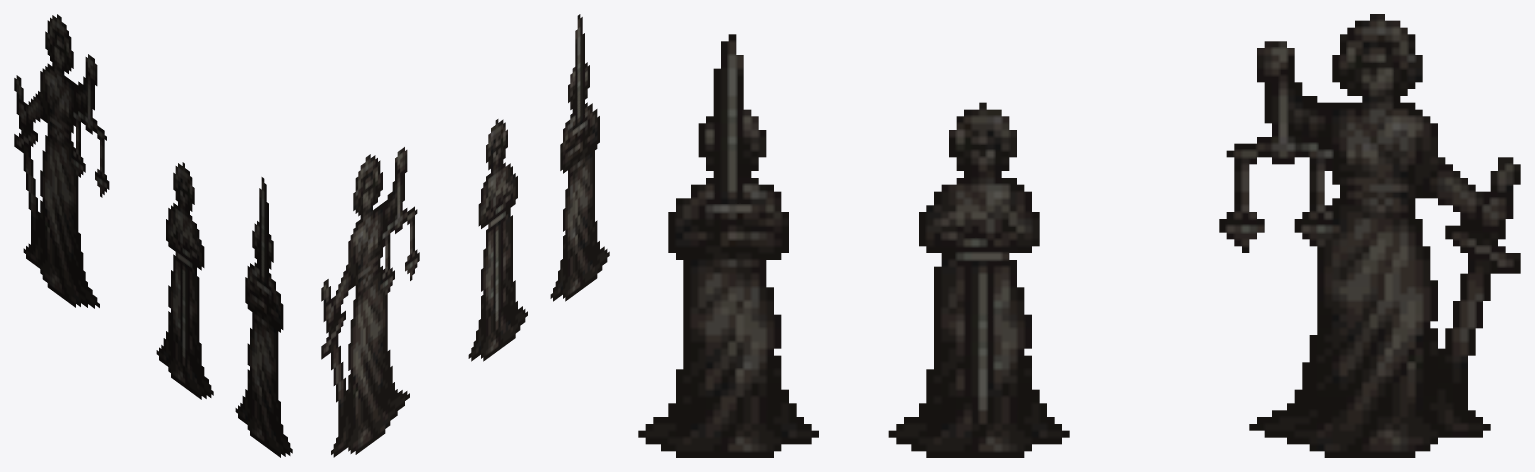
Rendered from EnvObjMD_Statue_I_R.FBX.
3 views of the same model, side by side, from view 1: azimuth 30°, elevation 25°; view 2: azimuth 150°, elevation 25°; view 3: azimuth 270°, elevation 25° (orthographic). The views are drawn at different scales.
Parts seen in each view (by area): view 1: EnvObjMD_Statue_I_C, EnvObjMD_Statue_I_L, EnvObjMD_Statue_I_R; view 2: EnvObjMD_Statue_I_C, EnvObjMD_Statue_I_L, EnvObjMD_Statue_I_R; view 3: EnvObjMD_Statue_I_C, EnvObjMD_Statue_I_L, EnvObjMD_Statue_I_R.
Part boxes in pixels (box(x1,y1,x2,y2)): EnvObjMD_Statue_I_C: box(14, 14, 109, 308); EnvObjMD_Statue_I_L: box(235, 177, 292, 457); EnvObjMD_Statue_I_R: box(156, 162, 213, 399); EnvObjMD_Statue_I_C: box(321, 147, 419, 457); EnvObjMD_Statue_I_L: box(550, 14, 609, 301); EnvObjMD_Statue_I_R: box(468, 119, 527, 361); EnvObjMD_Statue_I_C: box(1219, 14, 1520, 457); EnvObjMD_Statue_I_L: box(638, 34, 818, 457); EnvObjMD_Statue_I_R: box(888, 102, 1069, 457).
Size of the model in its own units: 1.86e-05 by 325 by 585.
